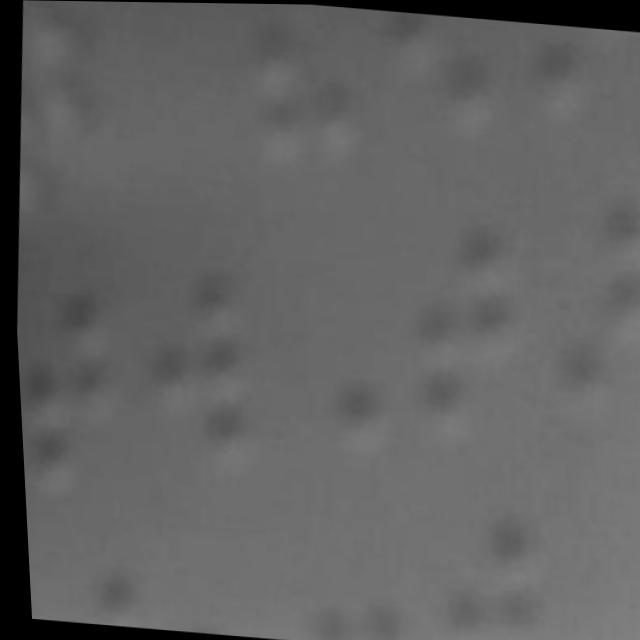braiile: (125, 257, 258, 494), (274, 240, 400, 464), (11, 273, 123, 508), (399, 226, 521, 437), (240, 3, 368, 190), (6, 0, 103, 232), (546, 195, 640, 413), (375, 8, 504, 157), (420, 487, 541, 640), (287, 514, 418, 640), (514, 19, 639, 127), (164, 552, 282, 638), (32, 569, 150, 628)
